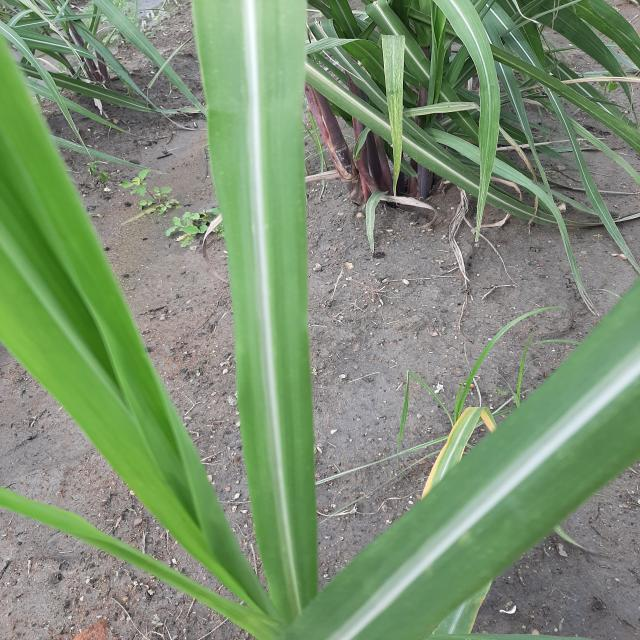Sugarcane: (1, 1, 638, 638)
